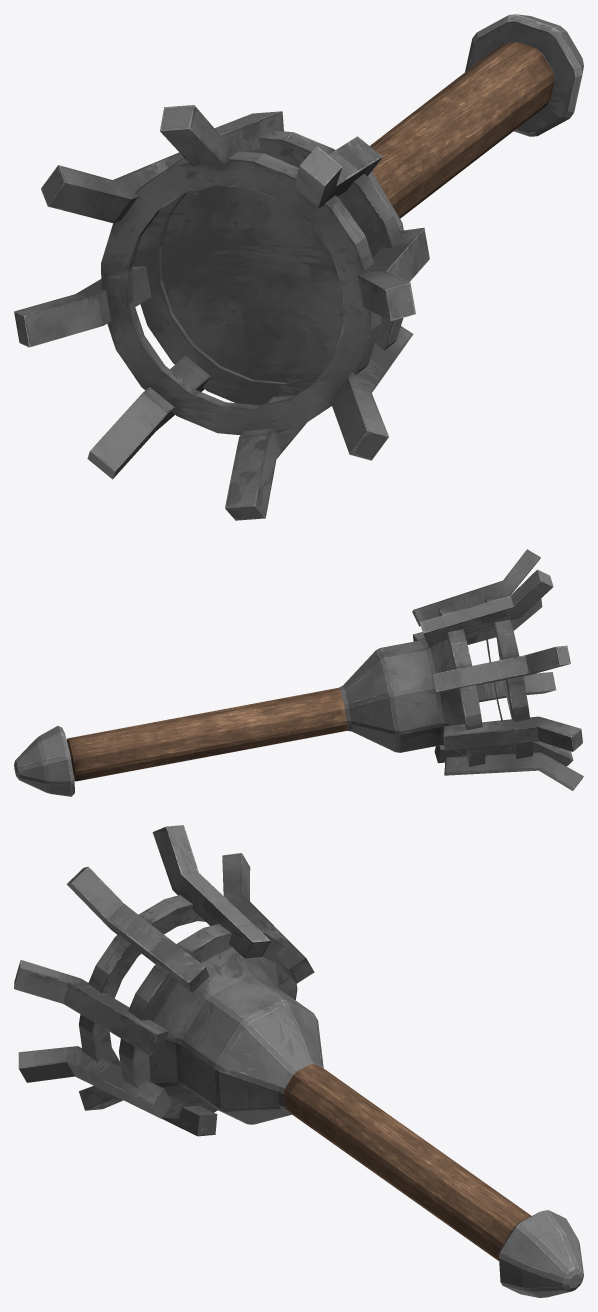
The model's file is Antorcha.glb.
The picture shows the model from 3 angles, top to bottom: view 1: azimuth 30°, elevation 25°; view 2: azimuth 150°, elevation 25°; view 3: azimuth 270°, elevation 25°; orthographic projection. The views are drawn at different scales.
Visible parts, largest first — view 1: AntorchaMano; view 2: AntorchaMano; view 3: AntorchaMano.
Boxes of the visible parts, box(x1,y1,x2,y2) form: AntorchaMano: box(14, 14, 583, 520); AntorchaMano: box(14, 549, 583, 796); AntorchaMano: box(14, 825, 583, 1297).
Size of the model in its own units: 1.07 by 0.5082 by 0.927.
Materials: 1 (1 with a texture image).
